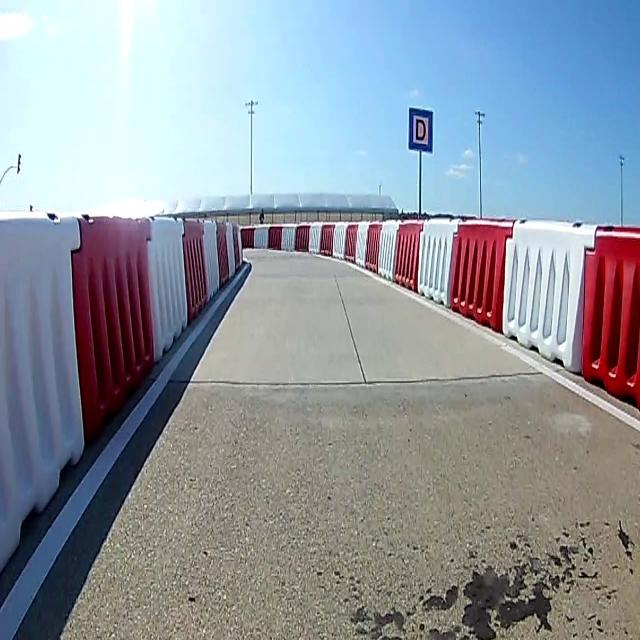durak: (407, 106, 434, 154)
